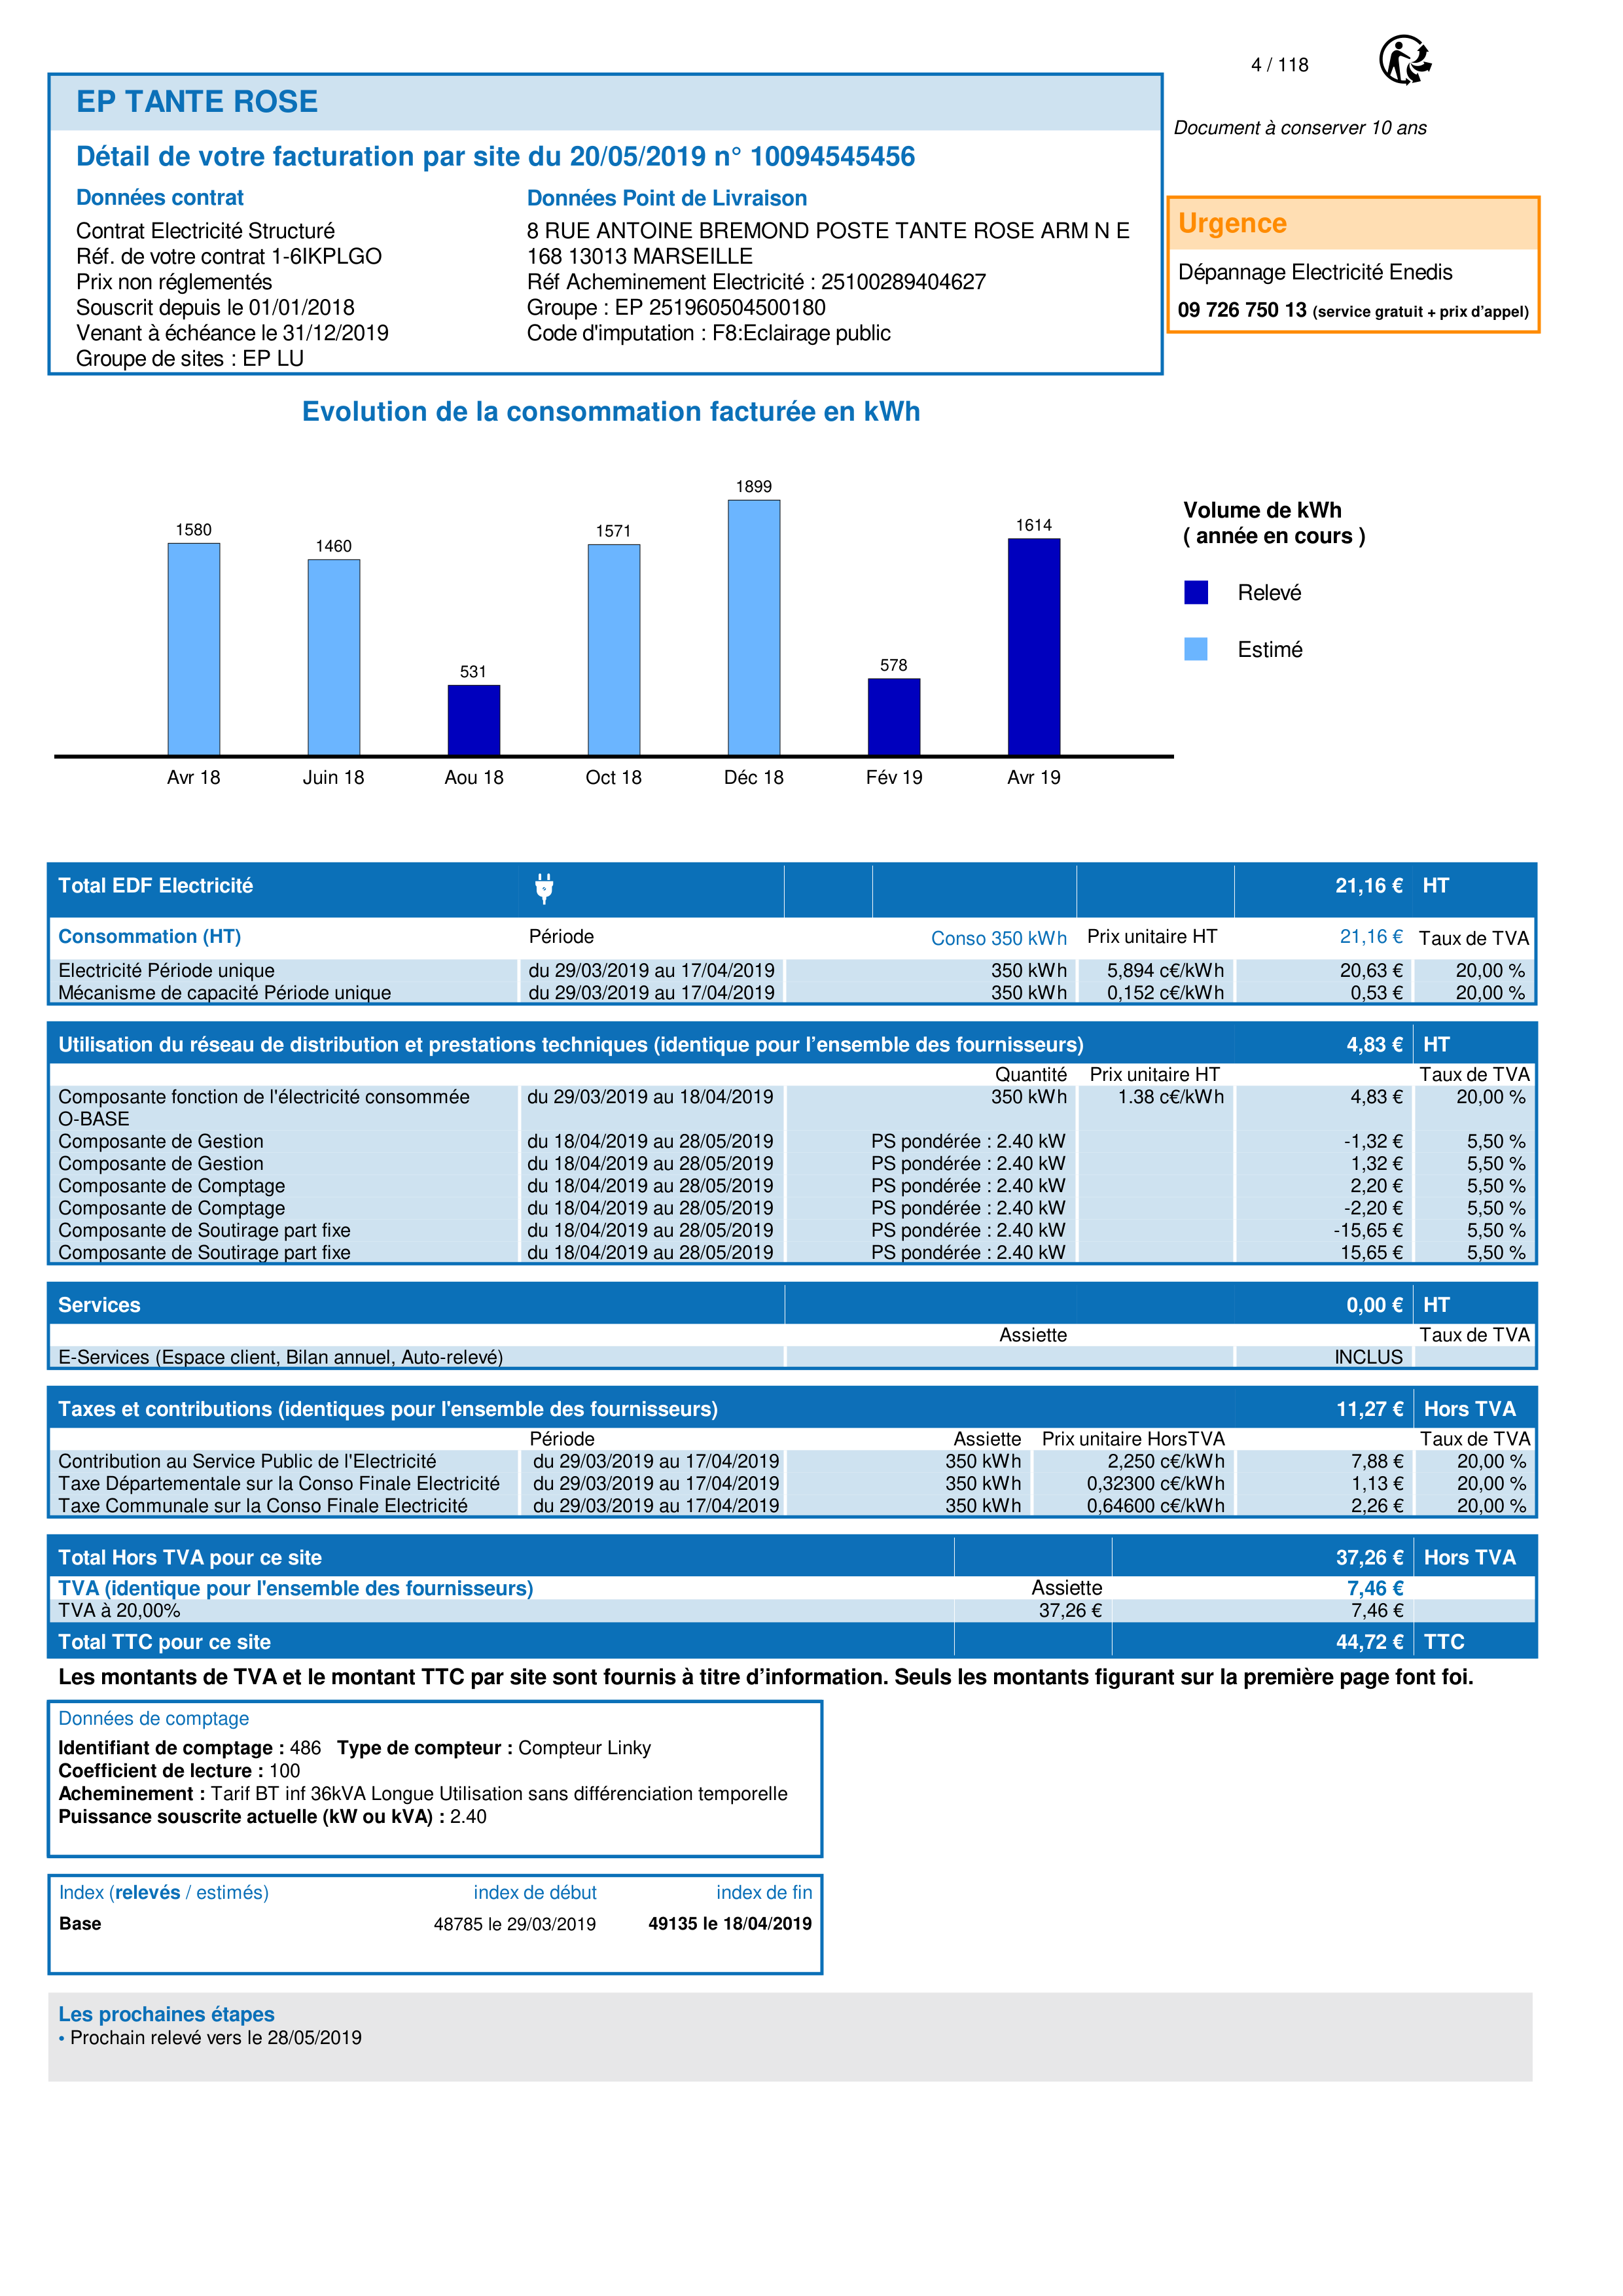area: (47, 1875, 819, 1971)
type_indicator: (47, 1875, 278, 1910)
